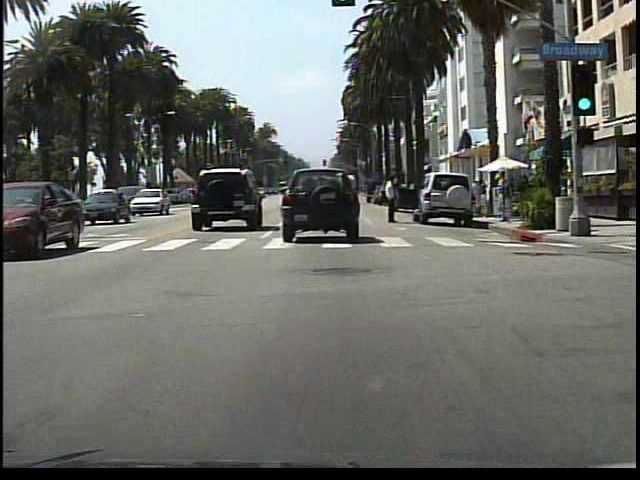person: (379, 171, 403, 228)
